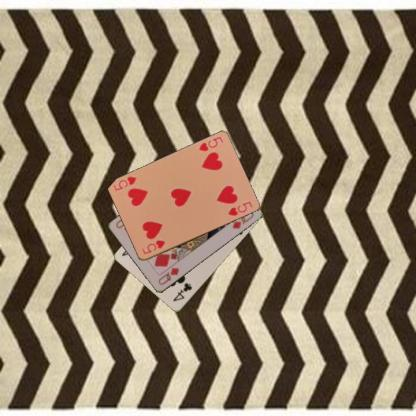4c: (170, 280, 193, 303)
5h: (196, 134, 223, 153), (140, 237, 166, 256)
Qd: (156, 265, 180, 287)
